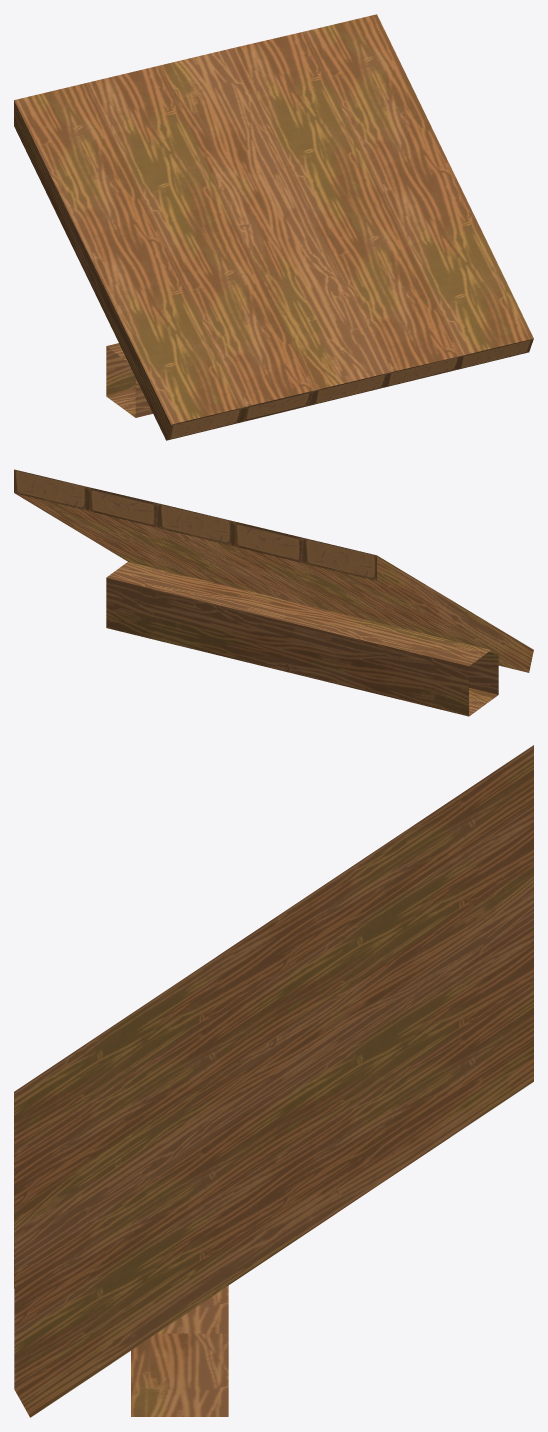
File: Roof_Wooden_2x1_Center.glb
3 views of the same model, one above another, from view 1: azimuth 30°, elevation 25°; view 2: azimuth 150°, elevation 25°; view 3: azimuth 270°, elevation 25° (orthographic). The views are drawn at different scales.
Visible parts, largest first — view 1: Roof_Wooden_2x1_Center; view 2: Roof_Wooden_2x1_Center; view 3: Roof_Wooden_2x1_Center.
Boxes of the visible parts, x1,y1,x2,y2 form: Roof_Wooden_2x1_Center: (14,14,533,440); Roof_Wooden_2x1_Center: (14,469,533,716); Roof_Wooden_2x1_Center: (14,745,533,1417).
Bounding box in the file's own units: 2 × 1.21 × 1.5.
Materials: 1 (1 with a texture image).
